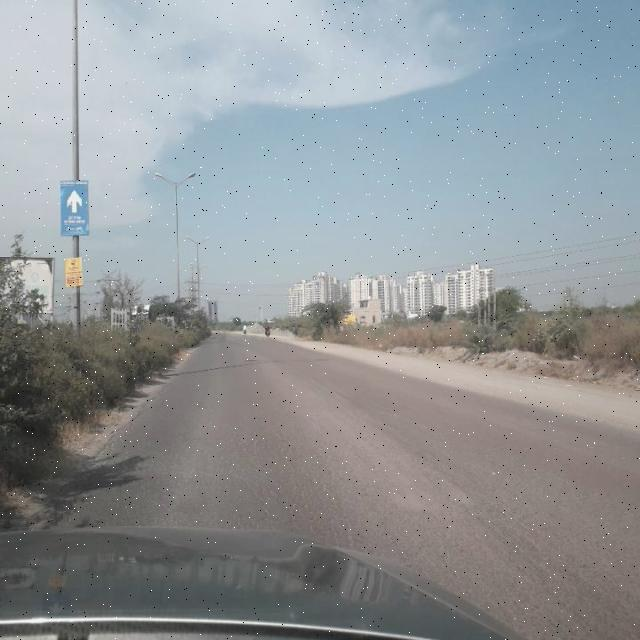D00: (40, 380, 173, 514)
D20: (128, 404, 491, 556)
